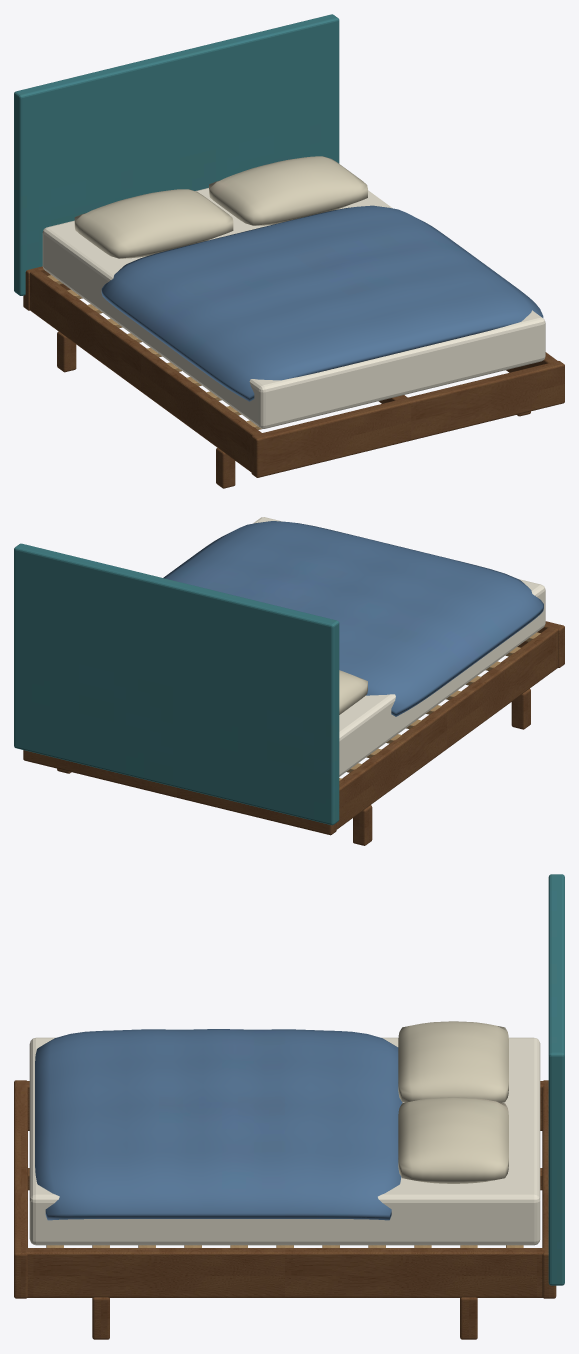
The model's file is bed.glb.
3 renders of one model, top to bottom at view 1: azimuth 30°, elevation 25°; view 2: azimuth 150°, elevation 25°; view 3: azimuth 270°, elevation 25°, orthographic. The views are drawn at different scales.
Visible parts, largest first — view 1: Quilted closed duvet, Bed headboard, Bed end rail, Nominal dimensioned mattress, Plump pillow with closed seams, Timber mattress support slat; view 2: Bed headboard, Quilted closed duvet, Bed end rail, Nominal dimensioned mattress, Plump pillow with closed seams, Timber mattress support slat; view 3: Quilted closed duvet, Bed end rail, Nominal dimensioned mattress, Plump pillow with closed seams, Bed headboard, Timber mattress support slat.
Part boxes in pixels (<box>): Quilted closed duvet: <box>101,205,543,401</box>; Bed headboard: <box>14,14,339,295</box>; Bed end rail: <box>23,266,564,488</box>; Nominal dimensioned mattress: <box>42,188,545,428</box>; Plump pillow with closed seams: <box>74,156,367,258</box>; Timber mattress support slat: <box>47,275,261,429</box>; Bed headboard: <box>14,543,339,825</box>; Quilted closed duvet: <box>163,521,543,716</box>; Bed end rail: <box>23,621,564,845</box>; Nominal dimensioned mattress: <box>253,517,545,776</box>; Plump pillow with closed seams: <box>339,670,367,714</box>; Timber mattress support slat: <box>339,632,540,780</box>; Quilted closed duvet: <box>35,1029,402,1220</box>; Bed end rail: <box>14,1080,556,1339</box>; Nominal dimensioned mattress: <box>29,1037,540,1245</box>; Plump pillow with closed seams: <box>398,1021,508,1183</box>; Bed headboard: <box>548,874,564,1285</box>; Timber mattress support slat: <box>46,1245,523,1247</box>.
Size of the model in its own units: 1.7 by 1.27 by 2.19.
6 materials, 6 textured.
